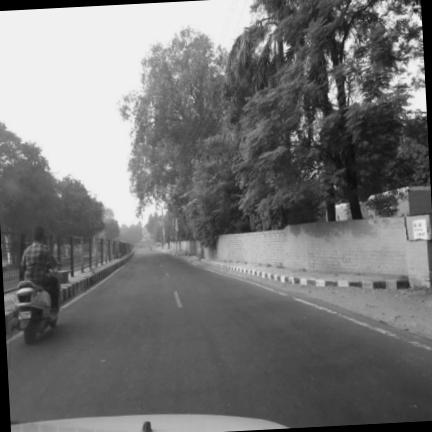Road: (8, 251, 431, 427)
